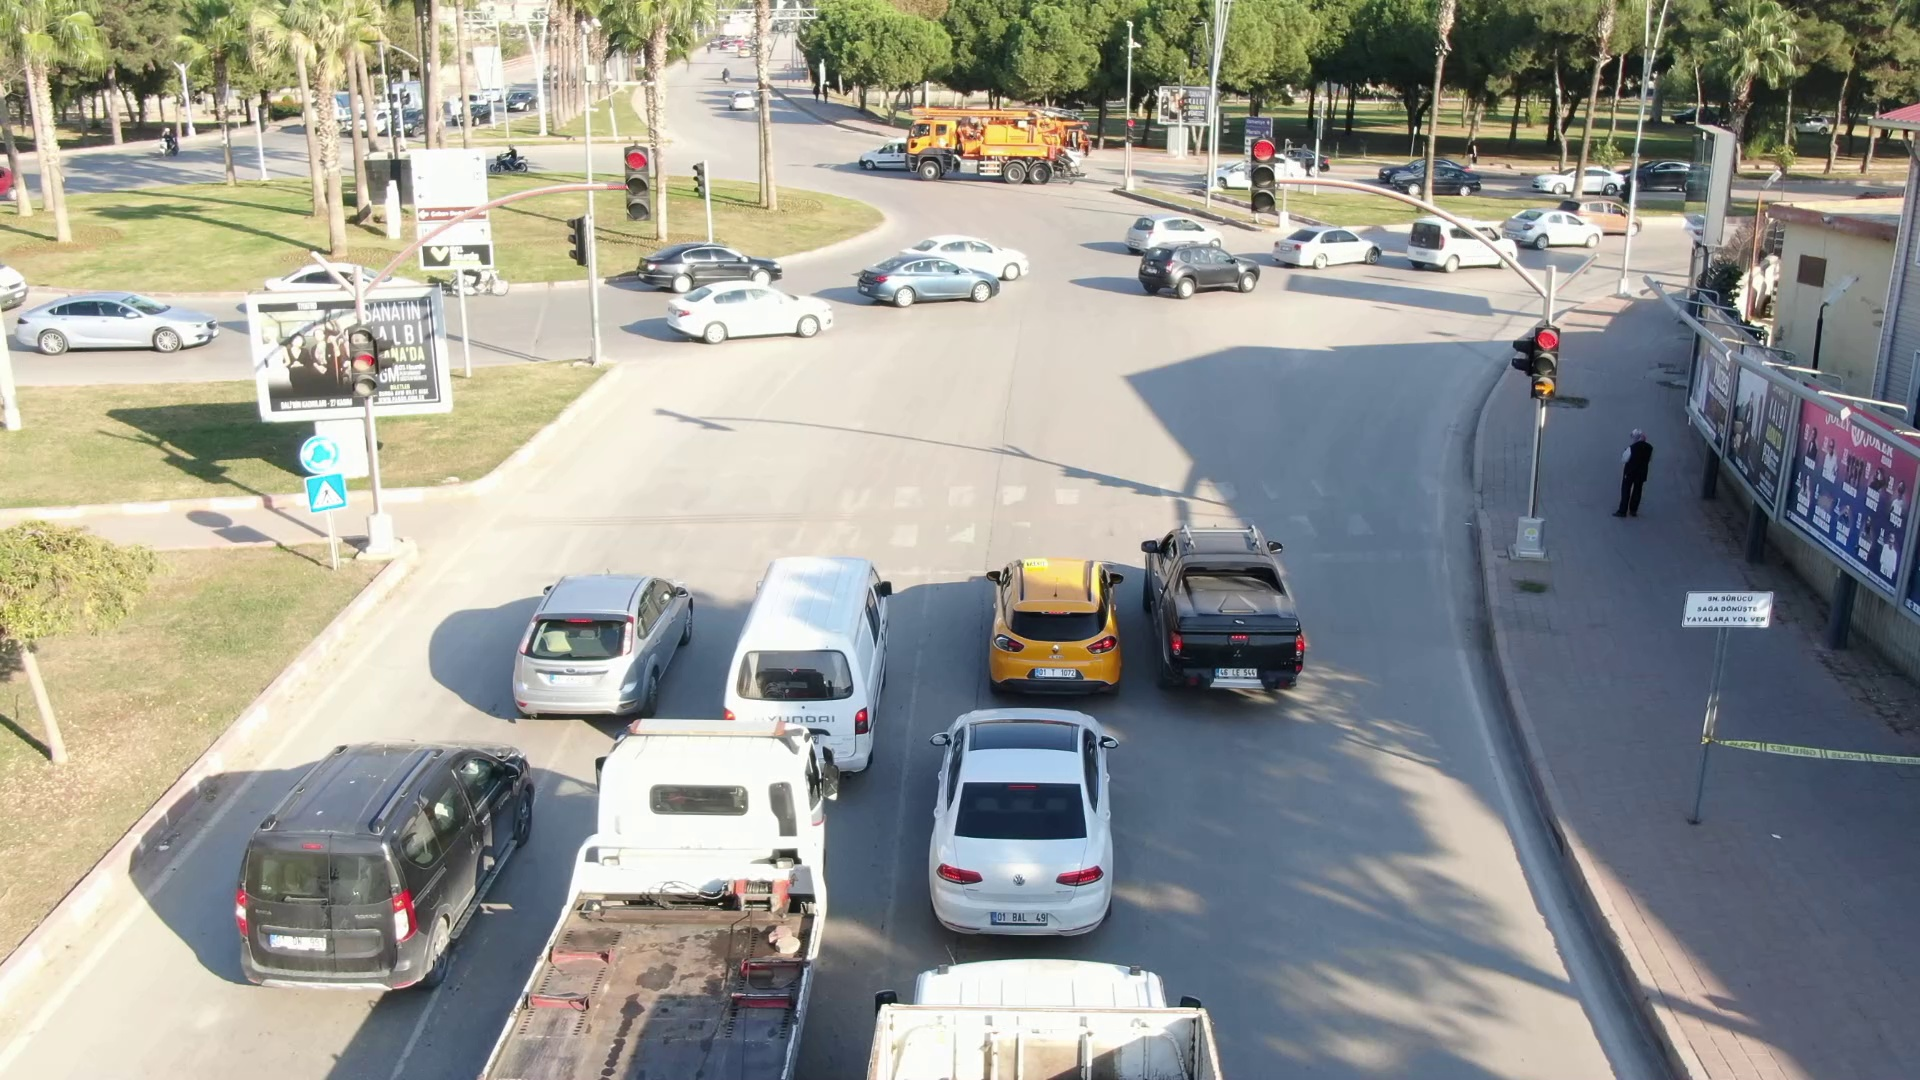car: (233, 738, 543, 990), (927, 700, 1118, 942), (1139, 516, 1308, 699), (506, 574, 699, 728), (985, 551, 1122, 698), (12, 290, 218, 355), (663, 274, 841, 345), (848, 255, 998, 313), (632, 241, 781, 294), (1135, 241, 1265, 301), (1402, 220, 1524, 277), (1273, 223, 1385, 277), (1501, 204, 1606, 249), (1389, 164, 1484, 200), (1531, 161, 1626, 195)
